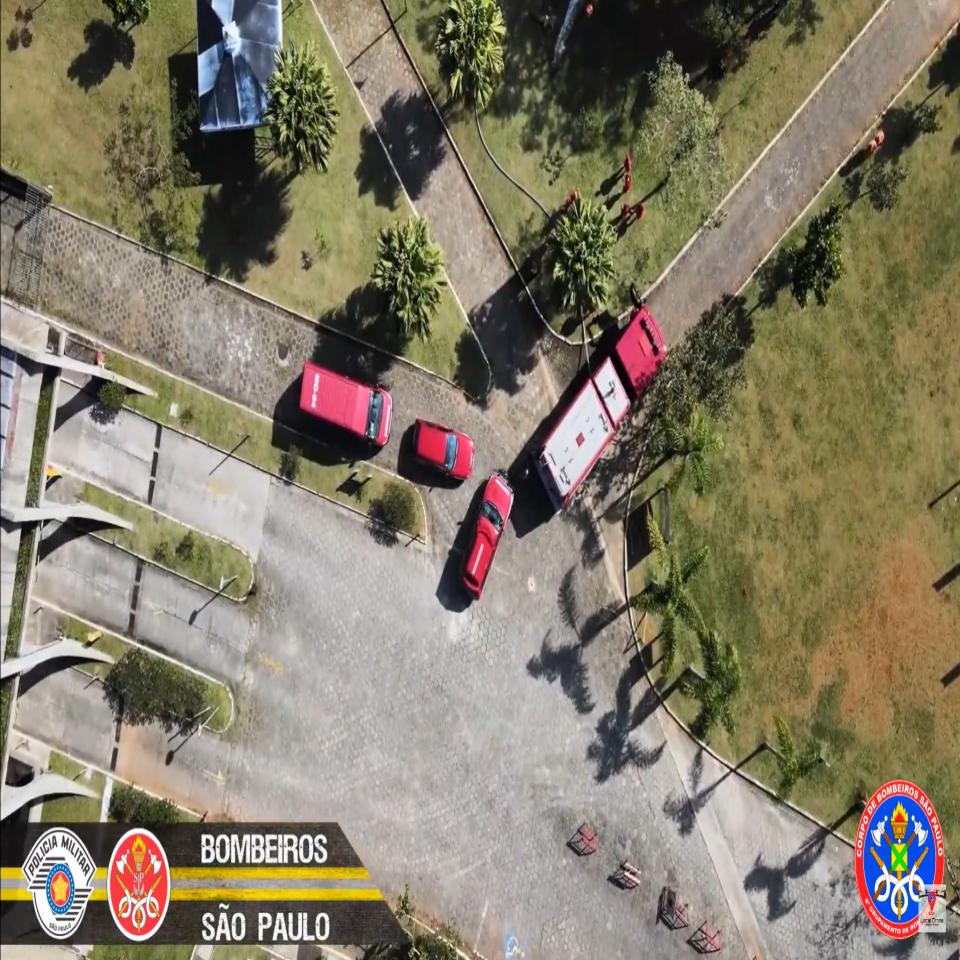viatura: (533, 300, 669, 512)
